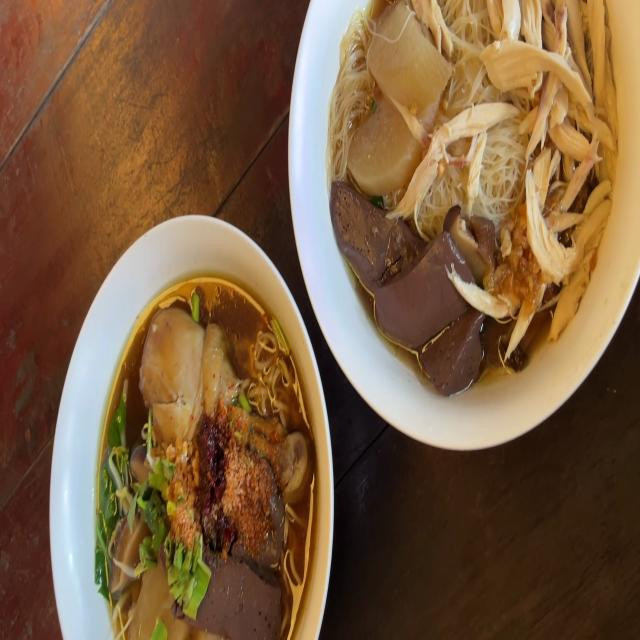noodle: (336, 0, 640, 338), (98, 288, 322, 640)
